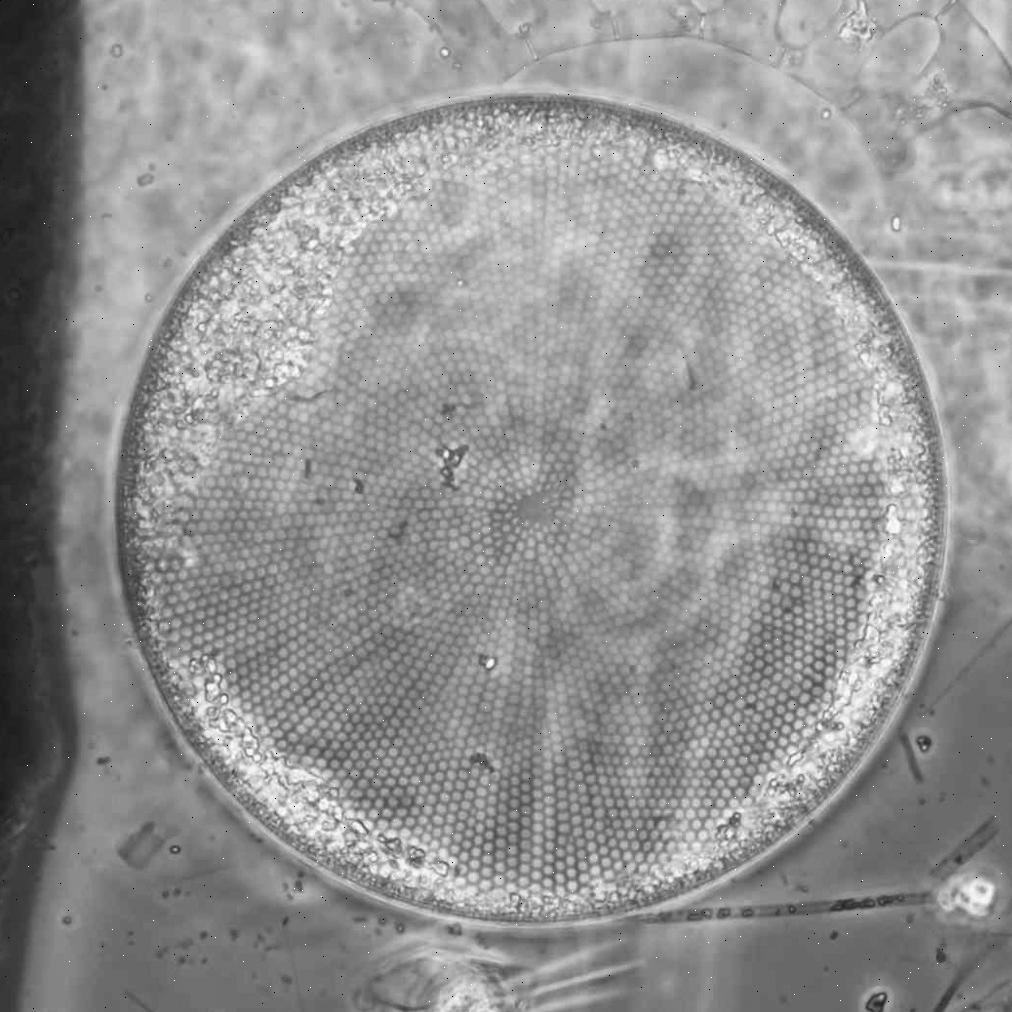coscinodiscus_oculus_iridis: (114, 99, 950, 925)
